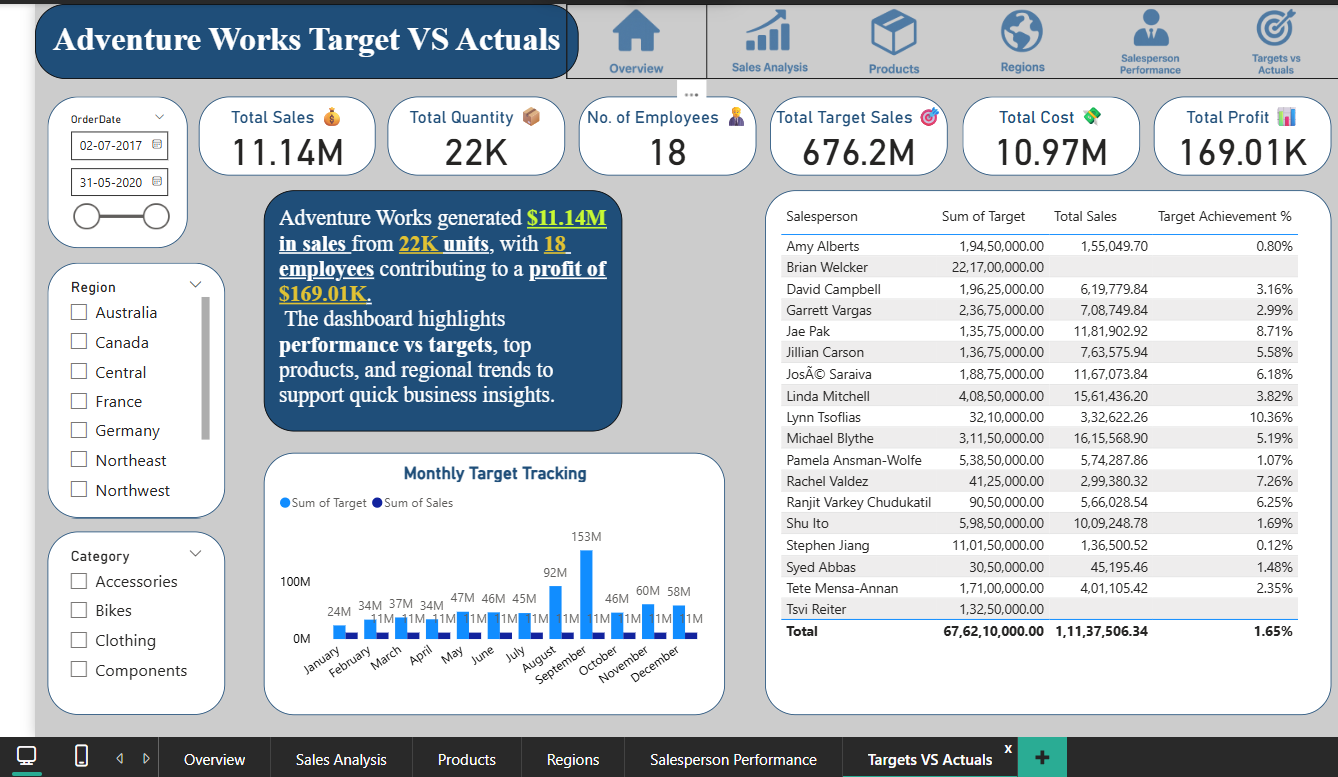

What the dashboard file says about the page in this screenshot:
{"tool":"powerbi","page":{"name":"Targets VS Actuals","canvas":[1280,720],"ordinal":5},"visuals":[{"type":"textbox","box":[0,0,533.7,73.6],"z":0},{"type":"image","box":[521.5,0,138.5,73.6],"z":0,"group":"g2"},{"type":"card","title":"Total Sales 💰","fields":{"Values":["adventure_works sales.Total Sales"]},"box":[160.7,91,173.7,77.9],"z":0,"group":"g1"},{"type":"image","box":[660,0,122.9,73.6],"z":1000,"group":"g2"},{"type":"group","id":"g1","title":"Group 1","box":[160.7,91,1111.7,78.5],"z":1000},{"type":"card","title":"Total Quantity 📦","fields":{"Values":["Sum(adventure_works sales.Quantity)"]},"box":[345.7,91.6,174.1,77.9],"z":1000,"group":"g1"},{"type":"group","id":"g2","title":"Group 2","box":[521.5,0,758.3,73.6],"z":2000},{"type":"image","box":[782.9,0,122.9,73.6],"z":2000,"group":"g2"},{"type":"card","title":"No. of Employees 👨💼","fields":{"Values":["Count(adventure_works salesperson.EmployeeID)"]},"box":[533.5,91.6,174.1,77.9],"z":2000,"group":"g1"},{"type":"image","box":[905.8,0,128.1,73.6],"z":3000,"group":"g2"},{"type":"card","title":"Total Target Sales 🎯","fields":{"Values":["Sum(adventure_works targets.Target)"]},"box":[721.3,91.6,174.1,77.9],"z":3000,"group":"g1"},{"type":"clusteredColumnChart","title":"Monthly Target Tracking","fields":{"Y":["Sum(adventure_works targets.Target)","Sum(adventure_works sales.Sales)"],"Category":["adventure_works targets.TargetMonth.Variation.Date Hierarchy.Month"]},"box":[224.5,440.5,452.8,257.7],"z":3000},{"type":"image","box":[1033.9,0,122.9,73.6],"z":4000,"group":"g2"},{"type":"card","title":"Total Cost 💸","fields":{"Values":["Sum(adventure_works sales.Cost)"]},"box":[910.5,91.6,174.1,77.9],"z":4000,"group":"g1"},{"type":"tableEx","title":"Sales by Region","fields":{"Values":["adventure_works salesperson.Salesperson","Sum(adventure_works targets.Target)","adventure_works sales.Total Sales","adventure_works sales.Target Achievement %"]},"box":[716.6,182.8,555.8,515.3],"z":4000},{"type":"image","box":[1156.9,0,122.9,73.6],"z":5000,"group":"g2"},{"type":"card","title":"Total Profit 📊","fields":{"Values":["adventure_works sales.Total Profit"]},"box":[1098.3,91.6,174.1,77.9],"z":5000,"group":"g1"},{"type":"slicer","fields":{"Values":["adventure_works sales.OrderDate"]},"box":[12.3,90.8,137.4,148.5],"z":6000},{"type":"slicer","fields":{"Values":["adventure_works region.Region"]},"box":[12.3,254,174.2,250.3],"z":7000},{"type":"slicer","fields":{"Values":["adventure_works product.Category"]},"box":[12.3,517.8,174.2,180.4],"z":8000},{"type":"textbox","box":[224.5,182.8,352.1,236.8],"z":10000}]}

Visuals, with their boxes on the page's 1280x720 design canvas (x1, y1, x2, y2). These are canvas units, not pixel positions in the 1338x777 screenshot, which may show the page scaled, cropped or inside an application window:
textbox: locate(0, 0, 534, 74)
image: locate(522, 0, 660, 74)
"Total Sales 💰" card: locate(161, 91, 334, 169)
image: locate(660, 0, 783, 74)
"Group 1" group: locate(161, 91, 1272, 170)
"Total Quantity 📦" card: locate(346, 92, 520, 170)
"Group 2" group: locate(522, 0, 1280, 74)
image: locate(783, 0, 906, 74)
"No. of Employees 👨💼" card: locate(534, 92, 708, 170)
image: locate(906, 0, 1034, 74)
"Total Target Sales 🎯" card: locate(721, 92, 895, 170)
"Monthly Target Tracking" clusteredColumnChart: locate(224, 440, 677, 698)
image: locate(1034, 0, 1157, 74)
"Total Cost 💸" card: locate(910, 92, 1085, 170)
"Sales by Region" tableEx: locate(717, 183, 1272, 698)
image: locate(1157, 0, 1280, 74)
"Total Profit 📊" card: locate(1098, 92, 1272, 170)
slicer - adventure_works sales.OrderDate: locate(12, 91, 150, 239)
slicer - adventure_works region.Region: locate(12, 254, 186, 504)
slicer - adventure_works product.Category: locate(12, 518, 186, 698)
textbox: locate(224, 183, 577, 420)
